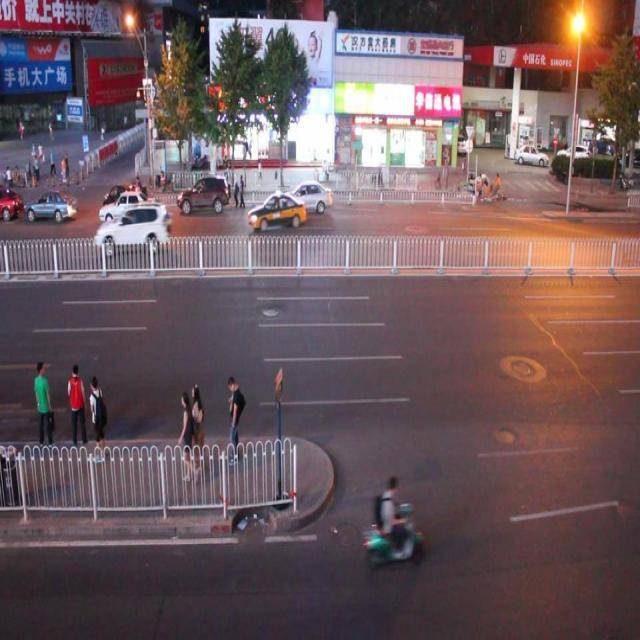car: (250, 194, 306, 249), (105, 209, 160, 263), (284, 184, 338, 220), (175, 186, 229, 221), (102, 193, 154, 228), (25, 193, 74, 229)
